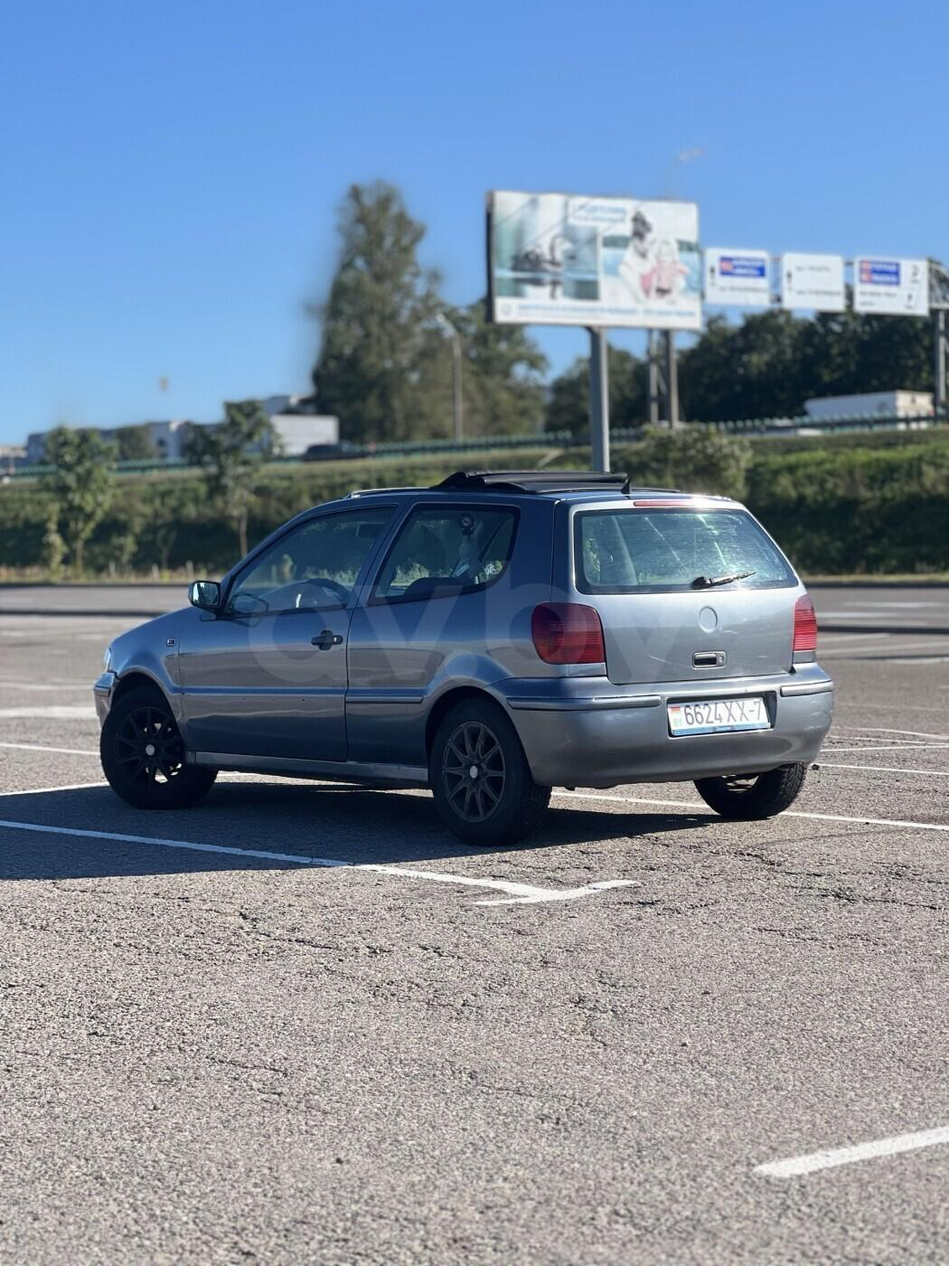Polo_2000-2002: (70, 459, 856, 844)
